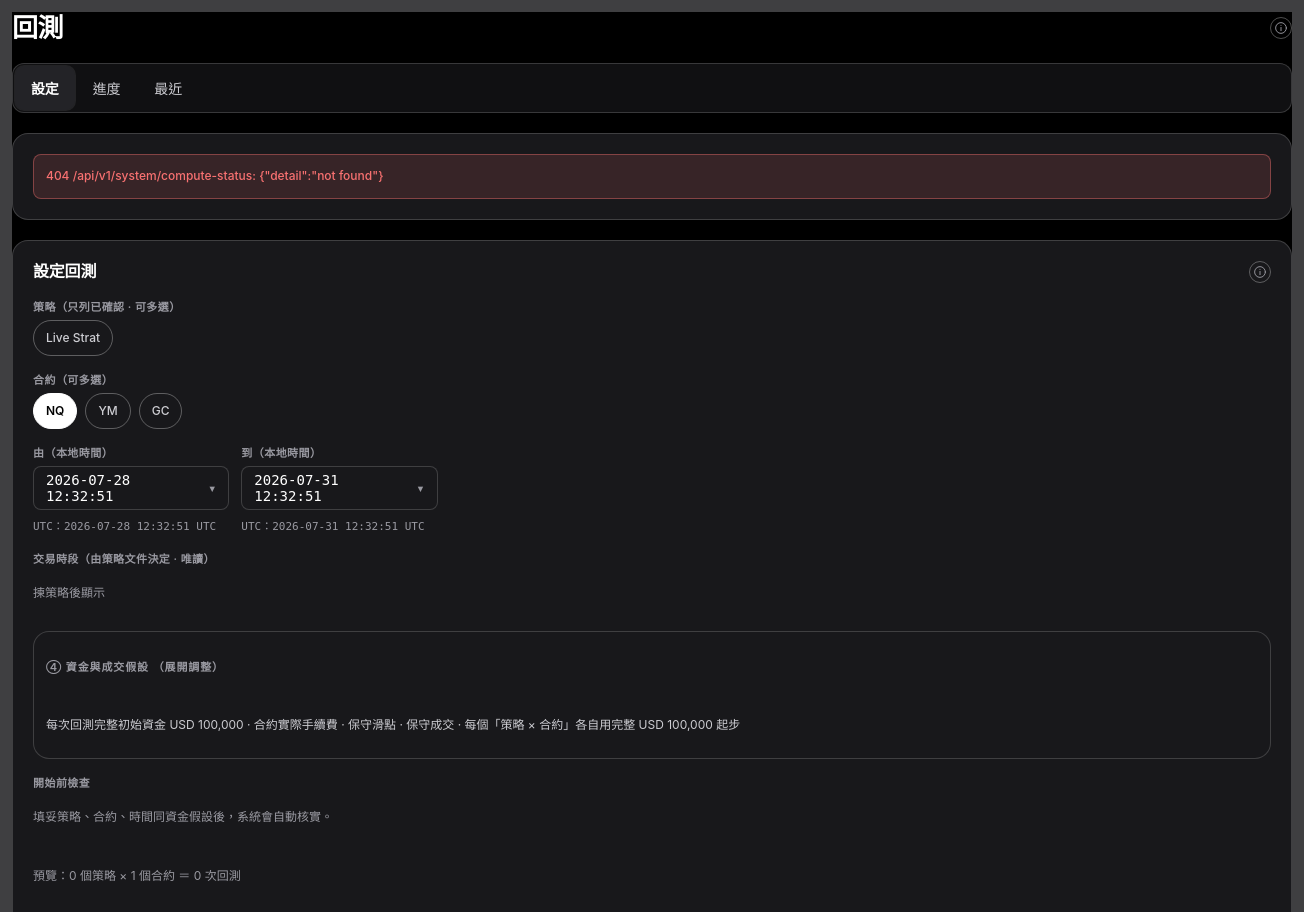
Scenario: P4 normal live seam › ready A becomes fail-closed immediately after identity drift
Step 1. Click the button with test id "strategy-chip-strategy-0001" → click(73, 338), box [33,320,113,356]
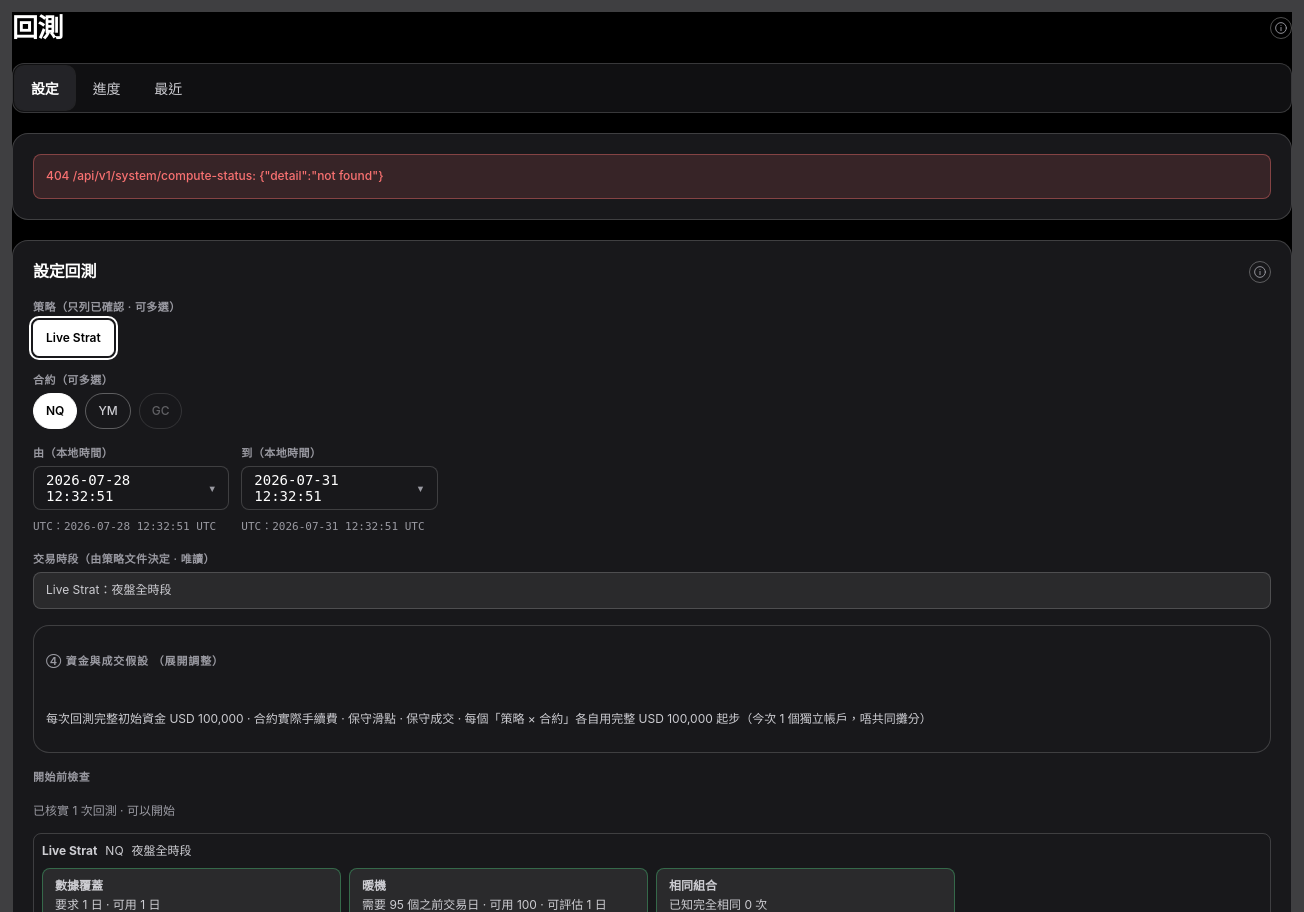
Step 2. Click the button "YM" → click(108, 411), box [85,393,131,429]
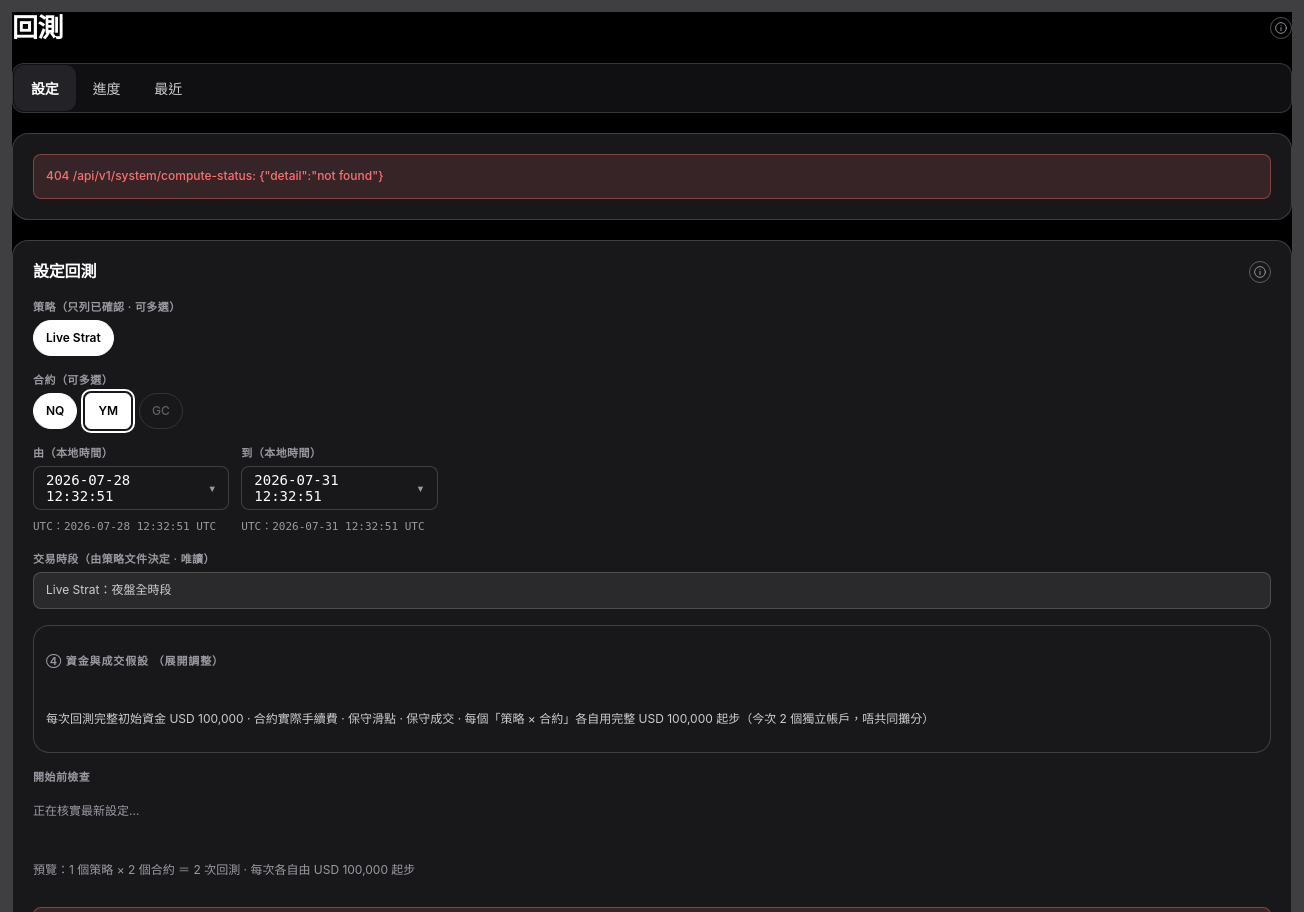
Check: the text "正在核實最新設定…" is shown, box [33,803,139,818]
